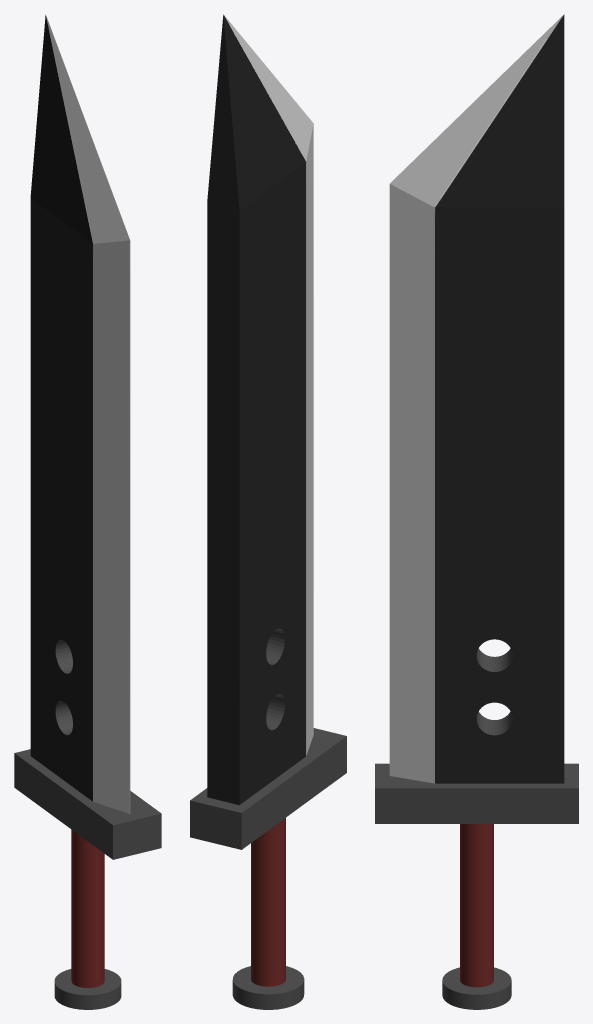
Rendered from hammer.obj.
The picture shows the model from 3 angles, left to right: view 1: azimuth 30°, elevation 25°; view 2: azimuth 150°, elevation 25°; view 3: azimuth 270°, elevation 25°; orthographic projection. The views are drawn at different scales.
Visible parts, largest first — view 1: BusterSword; view 2: BusterSword; view 3: BusterSword.
Boxes of the visible parts, bbox=[...] form: BusterSword: bbox=[14, 14, 161, 1009]; BusterSword: bbox=[190, 14, 346, 1009]; BusterSword: bbox=[375, 14, 578, 1009].
Size of the model in its own units: 0.337 by 5.27 by 0.991.
1 material, 1 textured.
